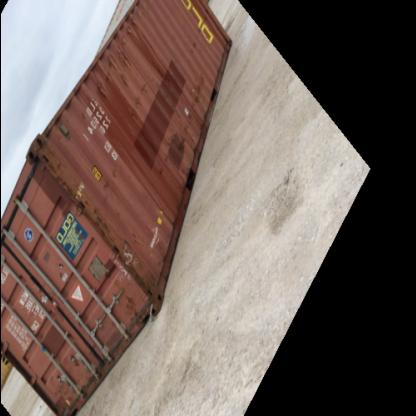Damage: (88, 220, 154, 300), (116, 18, 154, 125), (34, 146, 82, 211), (173, 70, 211, 148), (92, 48, 115, 108), (44, 368, 78, 408), (152, 154, 183, 196), (92, 162, 118, 198), (50, 258, 66, 286), (182, 36, 198, 53)
